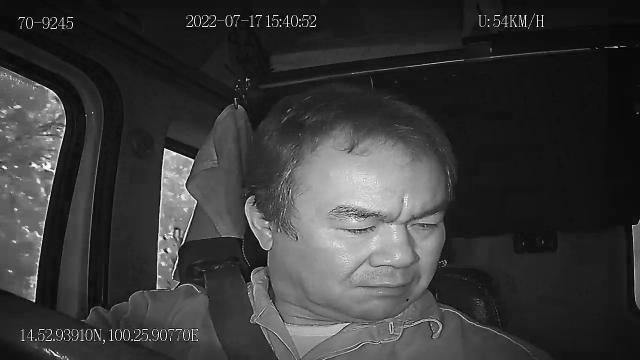SafeDriving: (326, 207, 384, 238), (400, 209, 447, 234)
Seatbelt: (202, 262, 280, 360)
